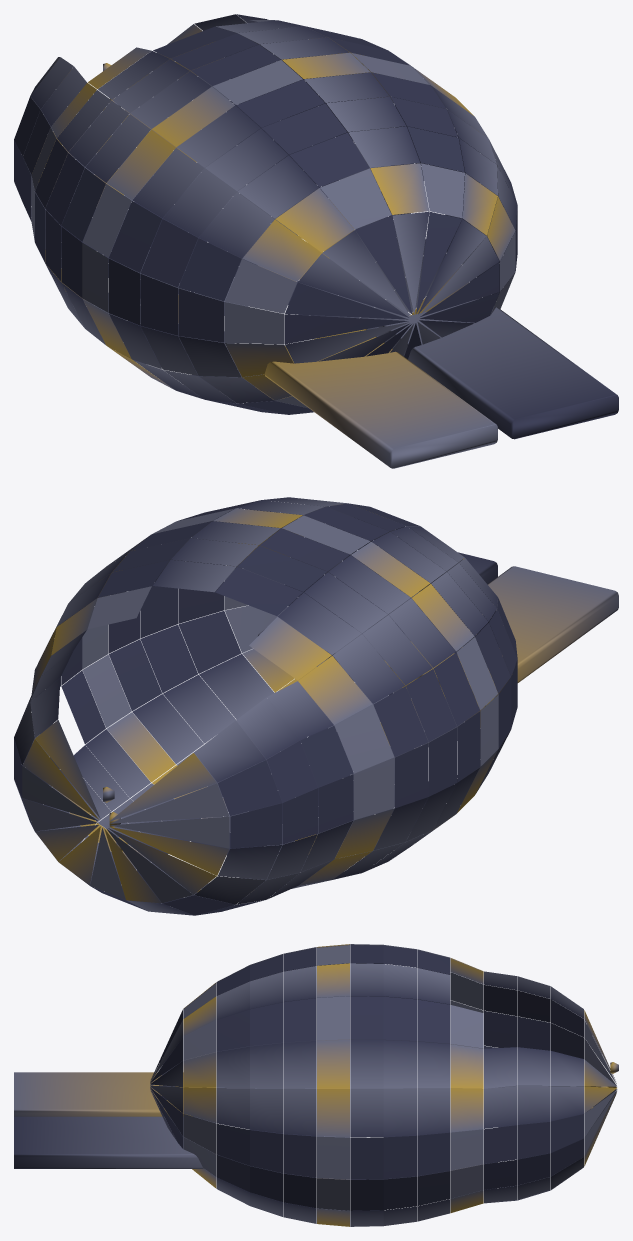
The model's file is wear_coat.glb.
The picture shows the model from 3 angles, top to bottom: view 1: azimuth 30°, elevation 25°; view 2: azimuth 150°, elevation 25°; view 3: azimuth 270°, elevation 25°; orthographic projection. The views are drawn at different scales.
Parts seen in each view (by area): view 1: Item; view 2: Item; view 3: Item.
Part boxes in pixels (<box>): Item: <box>14,14,618,468</box>; Item: <box>14,497,618,915</box>; Item: <box>14,944,618,1226</box>.
Size of the model in its own units: 0.6256 by 0.4869 by 1.09.
